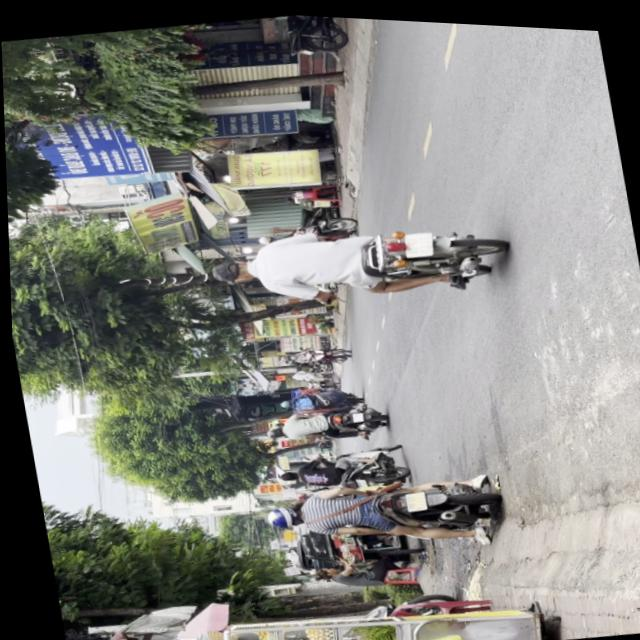helmet: (259, 500, 299, 529)
licenseplate: (199, 195, 509, 323), (252, 455, 502, 564)
motorcyclist: (205, 253, 253, 285)
nohelmet: (401, 226, 432, 254), (400, 486, 422, 508)
